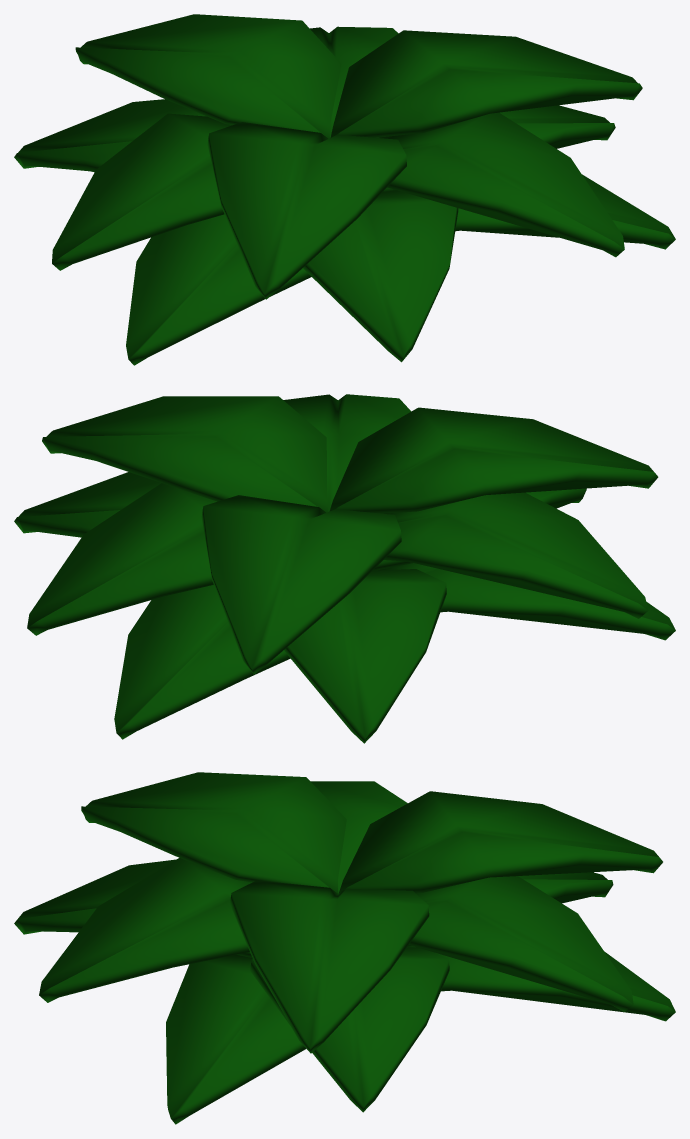
The model's file is fbx_small_potato.fbx.
3 views of the same model, one above another, from view 1: azimuth 30°, elevation 25°; view 2: azimuth 150°, elevation 25°; view 3: azimuth 270°, elevation 25° (orthographic). The views are drawn at different scales.
Parts seen in each view (by area): view 1: smallpotatoeplant; view 2: smallpotatoeplant; view 3: smallpotatoeplant.
Part boxes in pixels (left/top/right/bottom): smallpotatoeplant: left=14, top=14, right=675, bottom=365; smallpotatoeplant: left=14, top=394, right=675, bottom=743; smallpotatoeplant: left=14, top=772, right=675, bottom=1124.
Size of the model in its own units: 65.33 by 17.05 by 63.8.
